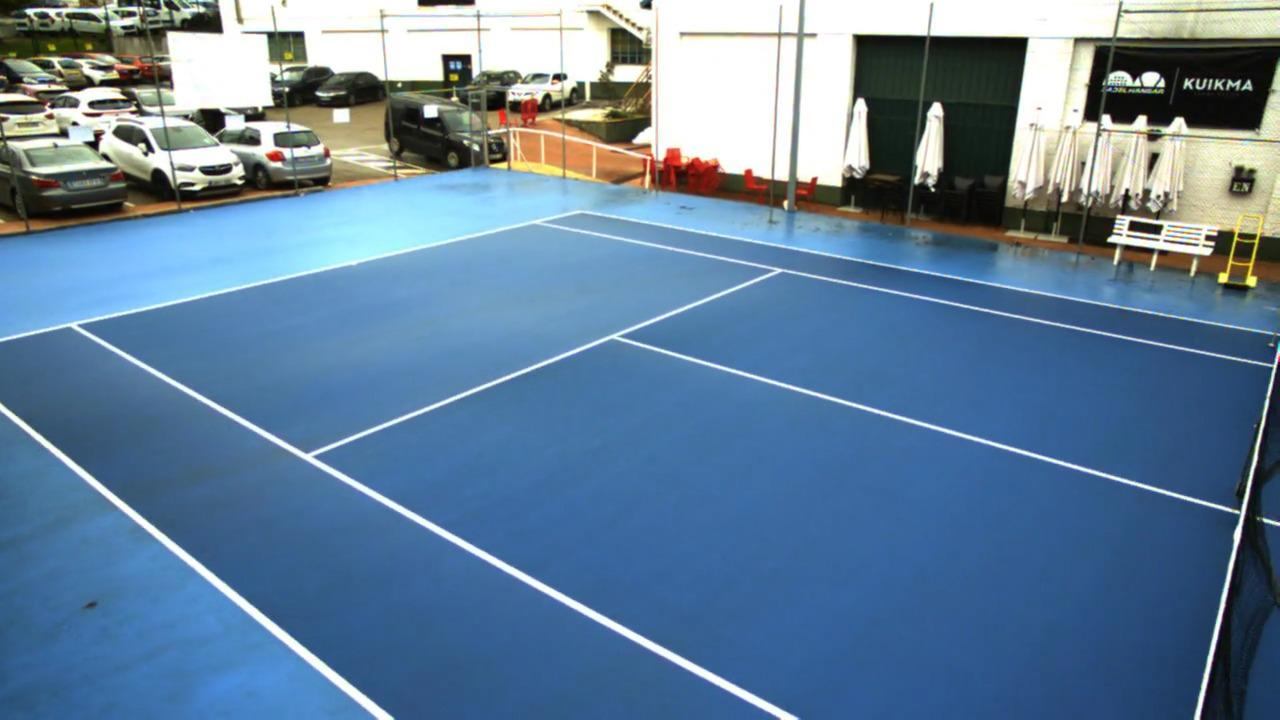cancha_tenis: (72, 222, 1280, 720)
point_f1: (58, 312, 96, 339)
point_f2: (526, 213, 552, 237)
point_fc1: (343, 254, 362, 274)
point_i1: (291, 444, 327, 470)
point_i2: (763, 258, 795, 283)
point_ic1: (602, 321, 637, 352)
